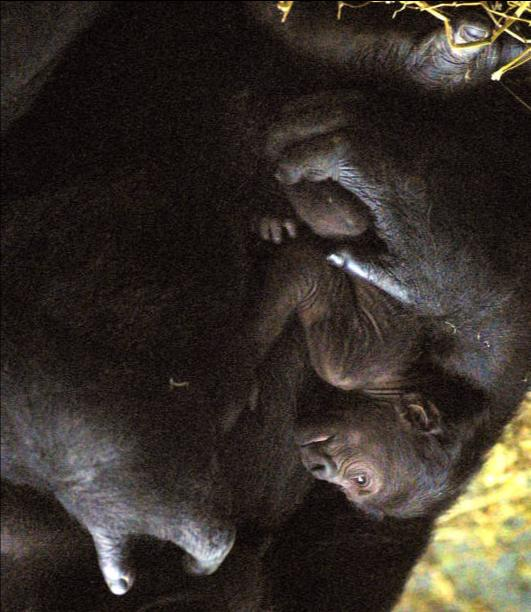gorille_Autres: (0, 0, 523, 612)
